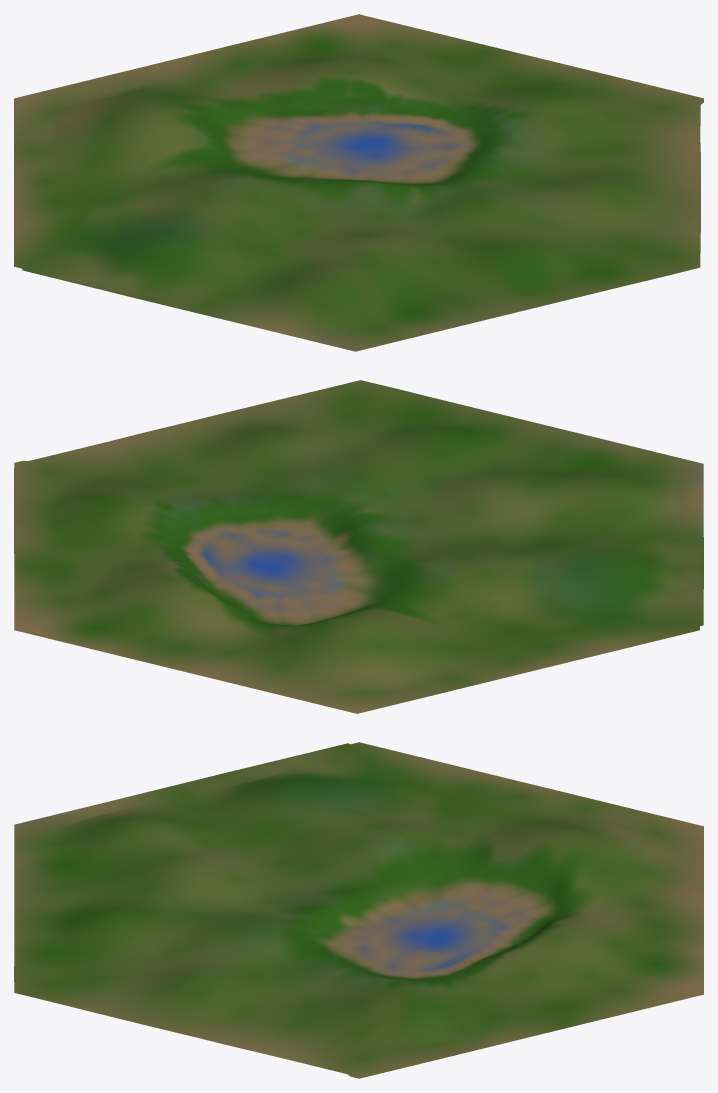
The model's file is Forest3.glb.
3 views of the same model, one above another, from view 1: azimuth 30°, elevation 25°; view 2: azimuth 150°, elevation 25°; view 3: azimuth 270°, elevation 25° (orthographic).
Visible parts, largest first — view 1: Circle; view 2: Circle; view 3: Circle.
Boxes of the visible parts, left/top/right/bottom form: Circle: left=14, top=14, right=703, bottom=351; Circle: left=14, top=380, right=703, bottom=713; Circle: left=14, top=742, right=703, bottom=1078.
Size of the model in its own units: 400 by 14.2 by 347.
Materials: 1 (1 with a texture image).
